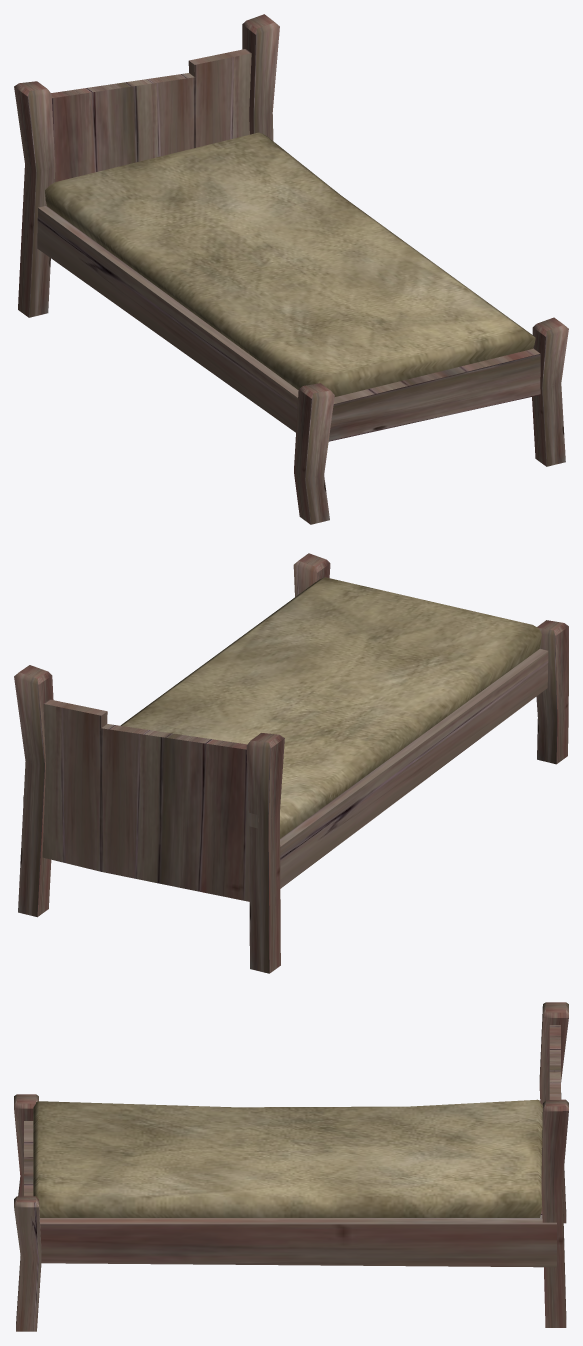
File: bed_shantyB.fbx
3 renders of one model, top to bottom at view 1: azimuth 30°, elevation 25°; view 2: azimuth 150°, elevation 25°; view 3: azimuth 270°, elevation 25°, orthographic. The views are drawn at different scales.
Parts seen in each view (by area): view 1: matress1, base1, headboard1, postA, postA2, postA3, postA1; view 2: matress1, headboard1, base1, postA, postA1, postA2, postA3; view 3: matress1, base1, postA1, postA3, postA, postA2, headboard1.
Part boxes in pixels (box(x1,y1,x2,y2)): matress1: box(45, 132, 535, 396); base1: box(37, 205, 540, 441); headboard1: box(51, 49, 251, 181); postA: box(14, 81, 55, 317); postA2: box(294, 383, 334, 524); postA3: box(532, 317, 568, 466); postA1: box(242, 14, 279, 140); matress1: box(120, 577, 541, 838); headboard1: box(42, 699, 258, 901); base1: box(23, 649, 548, 888); postA: box(246, 733, 284, 973); postA1: box(14, 665, 53, 917); postA2: box(536, 620, 568, 764); postA3: box(293, 553, 330, 596); matress1: box(33, 1099, 542, 1217); base1: box(24, 1121, 556, 1267); postA1: box(541, 1099, 568, 1327); postA3: box(14, 1196, 41, 1331); postA: box(539, 1002, 568, 1223); postA2: box(14, 1094, 38, 1223); headboard1: box(549, 1025, 560, 1099).
Bounding box in the file's own units: 427 × 370 × 838.
1 material, 1 textured.
